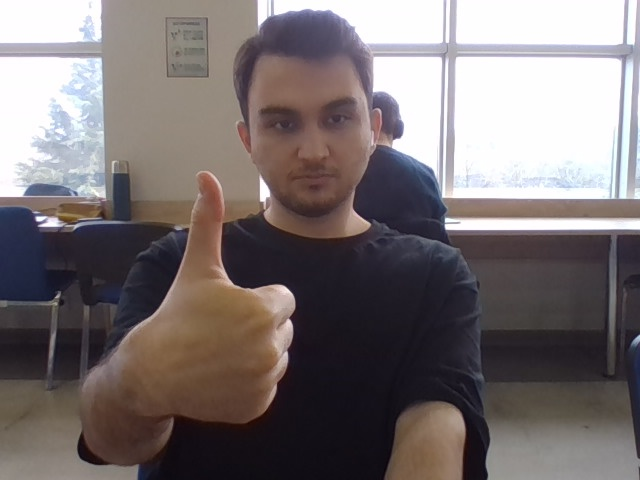thumbsup: (134, 171, 296, 424)
